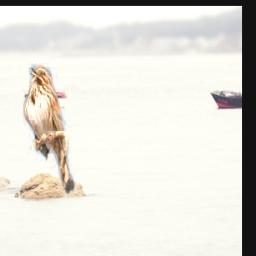Sparrow: (23, 63, 75, 195)
